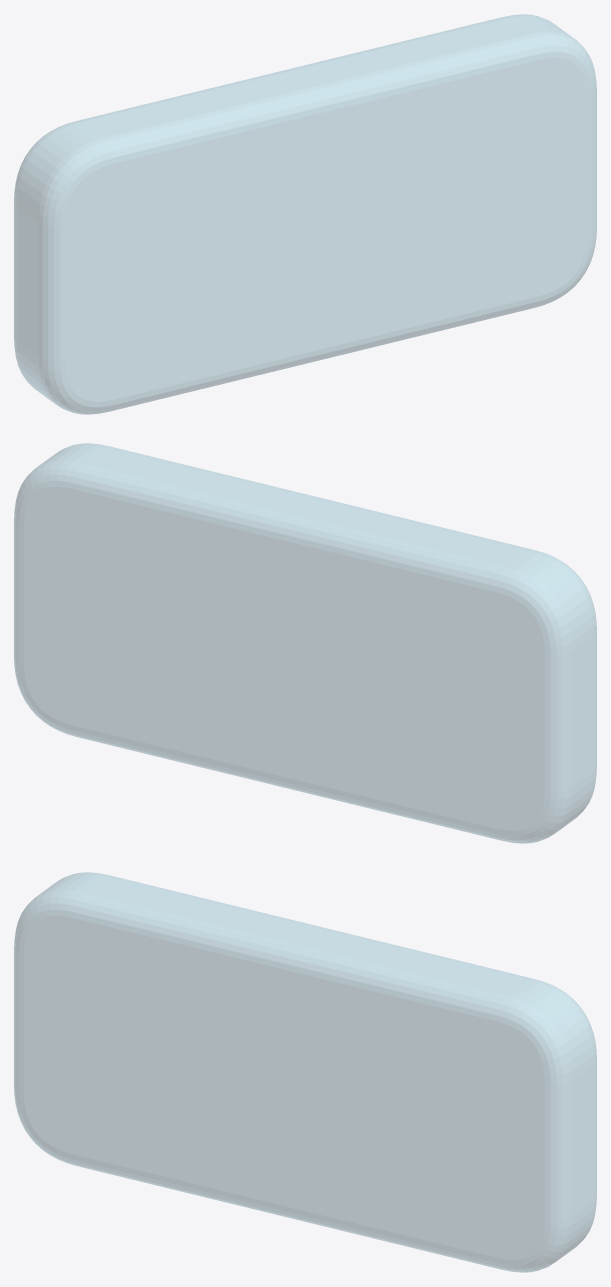
3 renders of one model, top to bottom at view 1: azimuth 30°, elevation 25°; view 2: azimuth 150°, elevation 25°; view 3: azimuth 330°, elevation 25°, orthographic.
Parts seen in each view (by area): view 1: panel; view 2: panel; view 3: panel.
Part boxes in pixels (bbox=[...]): panel: bbox=[14, 14, 596, 414]; panel: bbox=[14, 443, 596, 843]; panel: bbox=[14, 872, 596, 1272].
Size of the model in its own units: 3.2 by 1.5 by 0.42.
